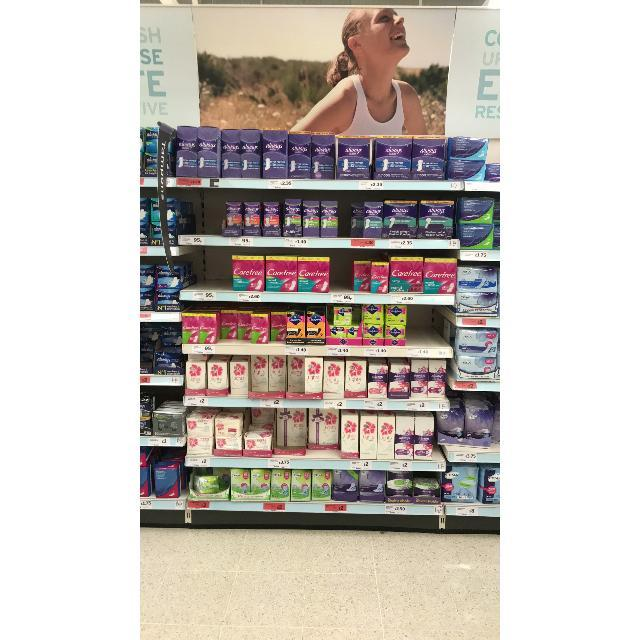empty: (408, 305, 444, 347), (198, 247, 232, 291), (194, 190, 222, 237), (330, 248, 352, 292), (338, 190, 350, 238)
front: (307, 448, 341, 459)
